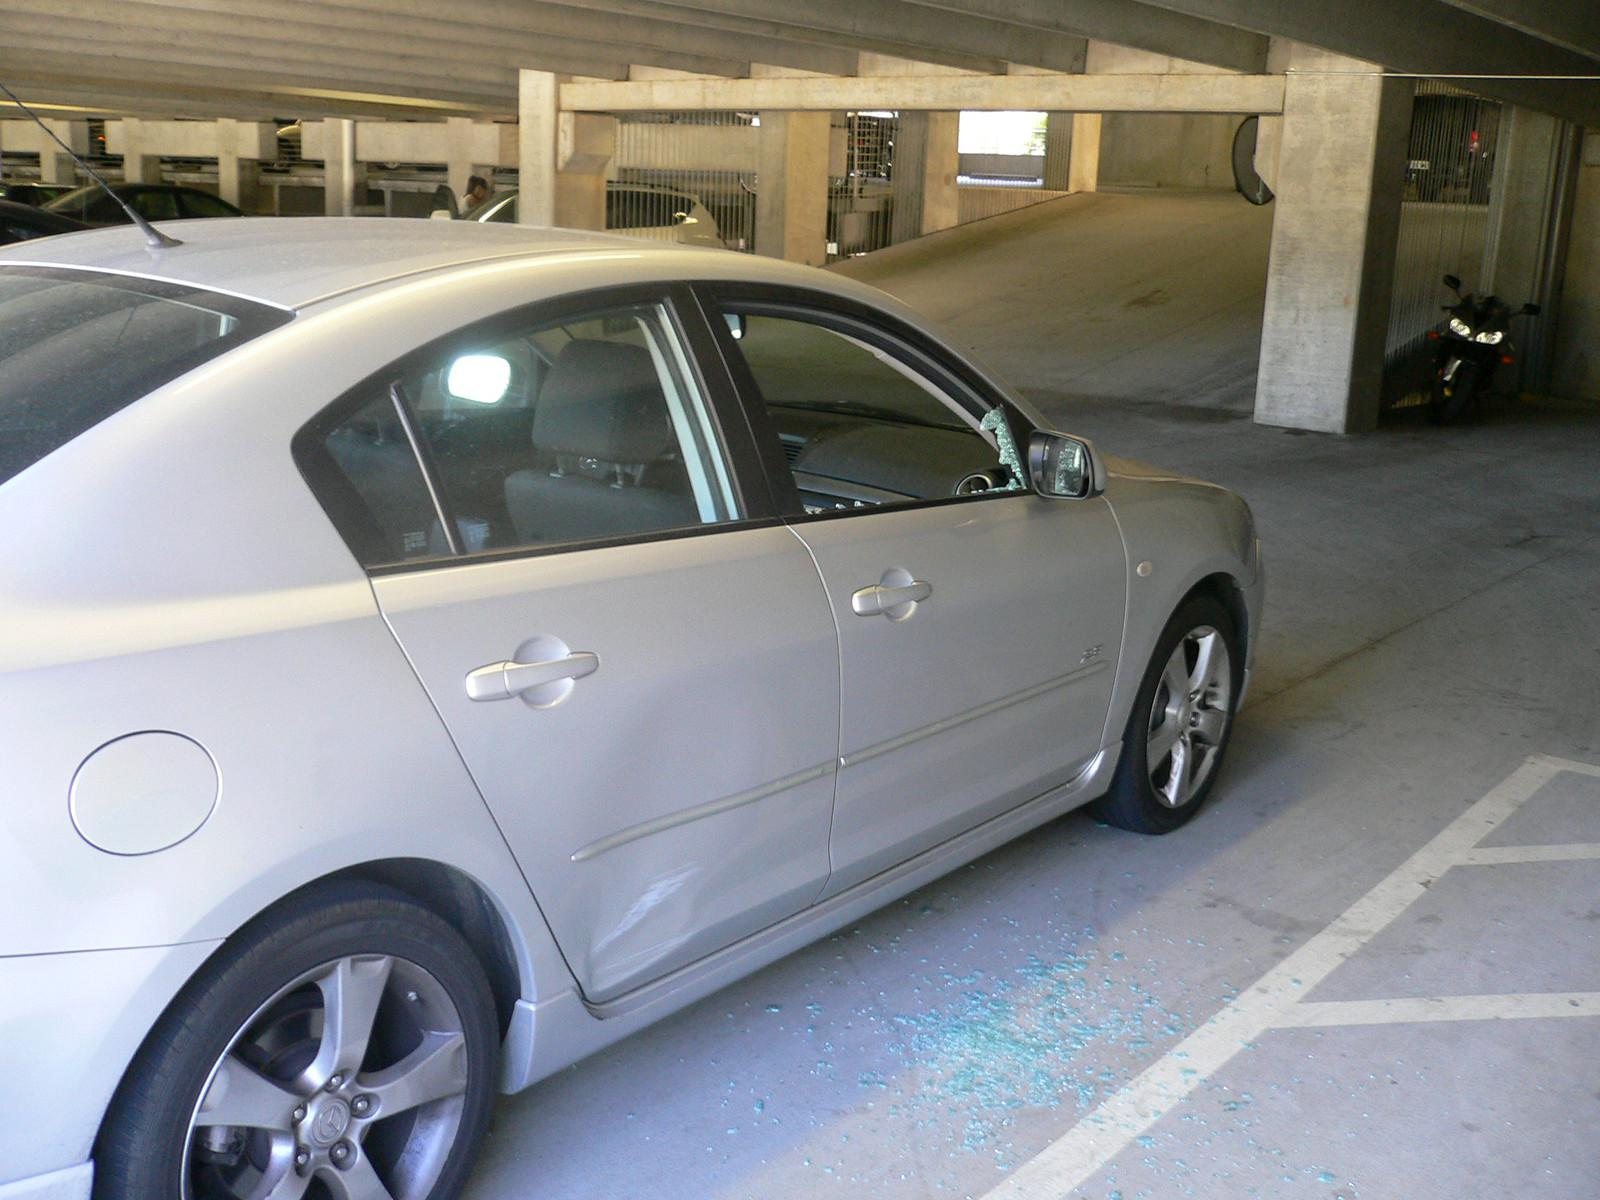doorouter-dent: (487, 613, 823, 1016)
